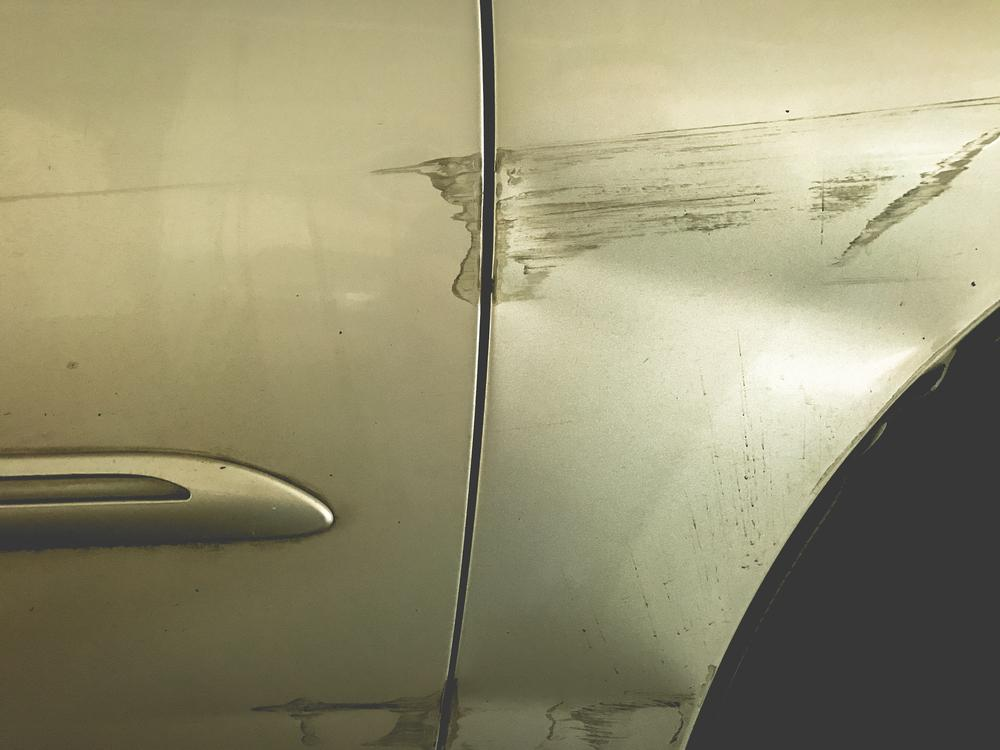scratch: (492, 97, 1000, 305), (371, 150, 484, 313), (530, 659, 722, 750), (246, 693, 454, 750)
